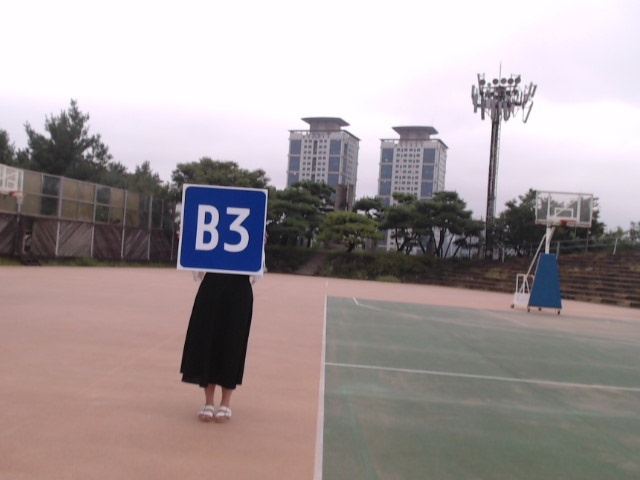delivery_b3: (180, 184, 267, 273)
